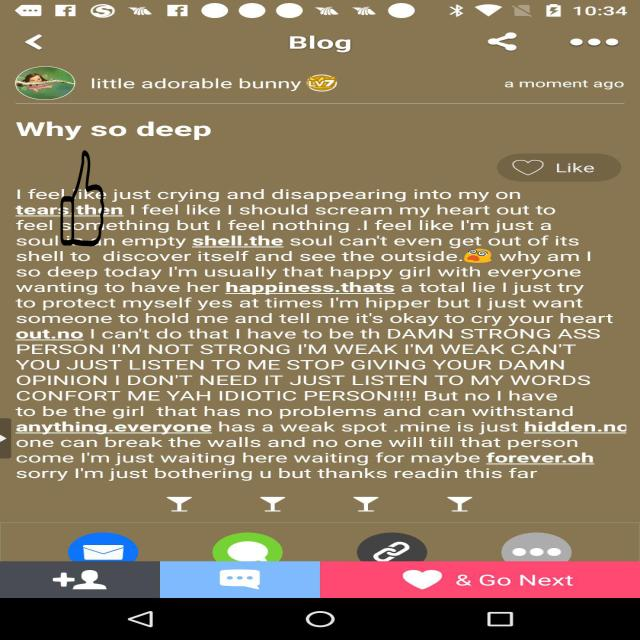privacy zuckering: (60, 150, 105, 247)
